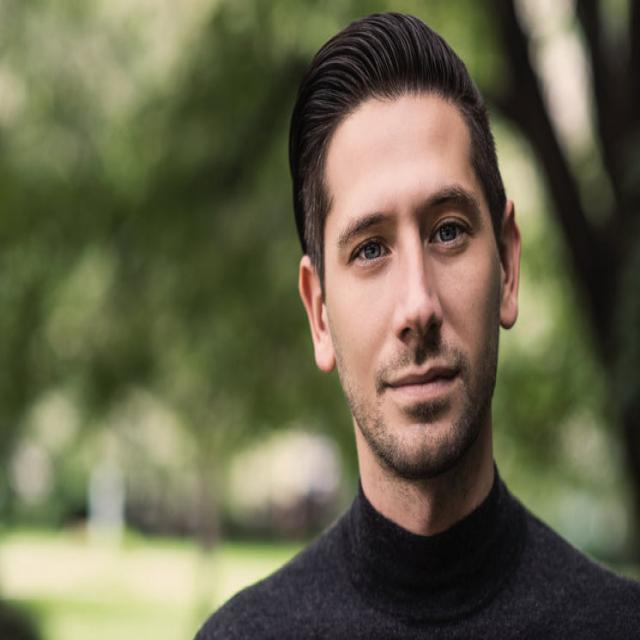earlobe: (298, 256, 336, 375), (497, 200, 522, 330)
